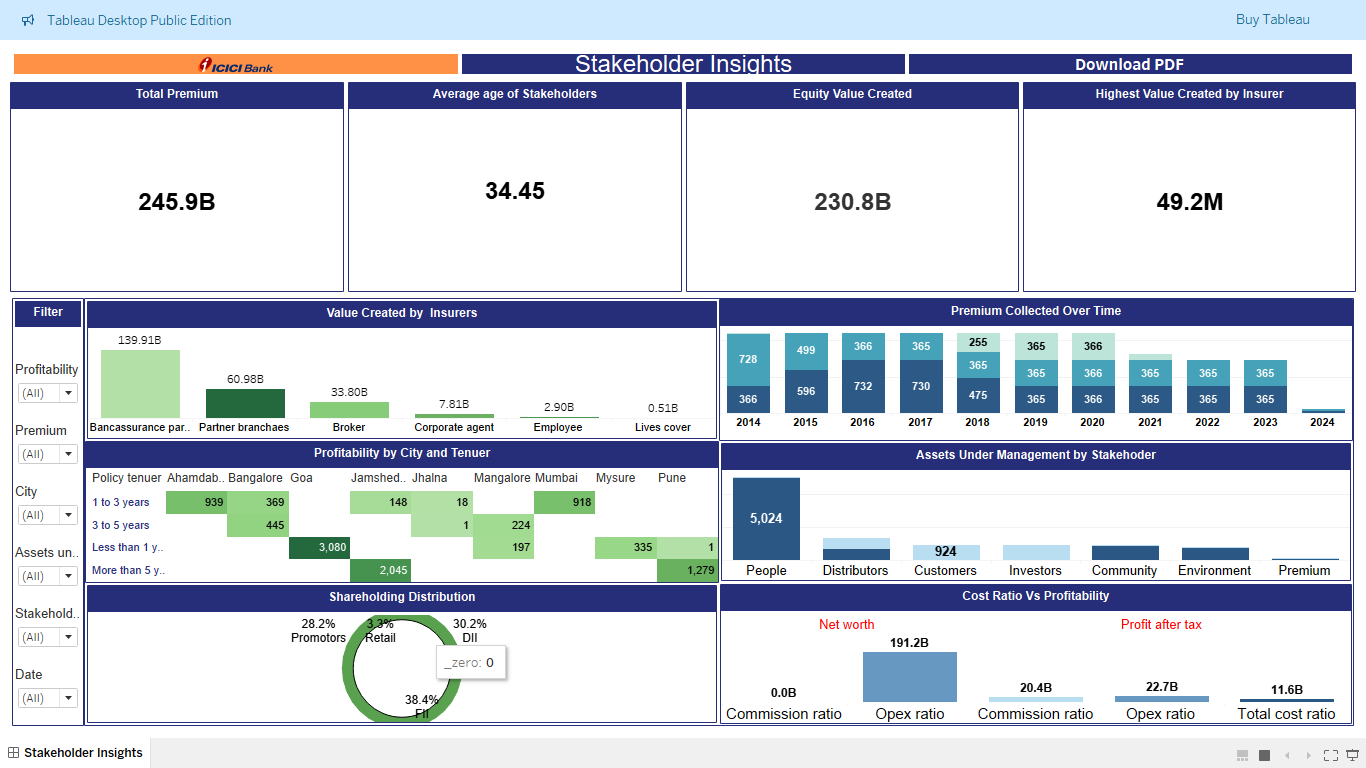

What the dashboard file says about the page in this screenshot:
{"tool":"tableau","page":{"name":"Stakeholder Insights","canvas":[1000,1000],"units":"permille","ordinal":0},"visuals":[{"type":"image","param":"C:/Users/vaibh/Downloads/ICICI-BANK-LOGO.png","box":[10.4,21.7,326.4,43.5]},{"type":"text","box":[336.8,21.7,326.4,43.5]},{"type":"dashboard-object","box":[663.2,21.7,326.4,43.5]},{"type":"worksheet","title":"Total Premium","mark":"Automatic","box":[6.9,72.5,246.8,123.2]},{"type":"worksheet","title":"Average age of Stakeholders","mark":"Automatic","box":[253.7,72.5,246.8,123.2]},{"type":"worksheet","title":"Equity Value Created","mark":"Automatic","box":[500.4,72.5,246.8,123.2]},{"type":"worksheet","title":"Highest Value Created by Insurer","mark":"Automatic","box":[747.2,72.5,245.9,123.2]},{"type":"worksheet","title":"Filter","mark":"Automatic","box":[11.3,204.7,60.6,110.5]},{"type":"worksheet","title":"Value Created by  Insurers","mark":"Automatic","rows":["Value Created"],"cols":["Insurer"],"box":[73.6,204.7,458,257.2]},{"type":"worksheet","title":"Premium Collected Over Time","mark":"Bar","rows":["Premium 1"],"cols":["Date"],"box":[531.6,204.7,457.1,257.2]},{"type":"filter","title":"Filter","param":"[federated.1yegzj21b61yib12xflw71g7y870].[none:Profitability:nk]","box":[11.3,315.2,60.6,110.5]},{"type":"filter","title":"Filter","param":"[federated.1yegzj21b61yib12xflw71g7y870].[none:Premium:nk]","box":[11.3,425.7,60.6,110.5]},{"type":"worksheet","title":"Profitability by City and Tenuer","mark":"Square","rows":["Policy tenuer"],"cols":["City"],"box":[73.6,462,458,257.2]},{"type":"worksheet","title":"Assets Under Management by Stakehoder","mark":"Automatic","rows":["Assets under management"],"cols":["Stakeholder"],"box":[531.6,462,457.1,257.2]},{"type":"filter","title":"Filter","param":"[federated.1yegzj21b61yib12xflw71g7y870].[none:City:nk]","box":[11.3,536.2,60.6,110.5]},{"type":"filter","title":"Filter","param":"[federated.1yegzj21b61yib12xflw71g7y870].[none:Assets under management:nk]","box":[11.3,646.7,60.6,110.5]},{"type":"worksheet","title":"Shareholding Distribution","mark":"Pie","rows":["Calculation_821343983090888704","Calculation_821343983090888704"],"box":[73.6,719.2,458,257.2]},{"type":"worksheet","title":"Cost Ratio Vs Profitability","mark":"Automatic","rows":["Value Created"],"cols":["Profitability","Cost ratio"],"box":[531.6,719.2,457.1,257.2]},{"type":"filter","title":"Filter","param":"[federated.1yegzj21b61yib12xflw71g7y870].[none:Stakeholder:nk]","box":[11.3,757.2,60.6,110.5]},{"type":"filter","title":"Filter","param":"[federated.1yegzj21b61yib12xflw71g7y870].[my:Date:ok]","box":[11.3,867.8,60.6,108.7]}]}

Visuals, with their boxes on the dashboard's canvas, which has no fixed pixel size, in thousandths of its width and height (x1, y1, x2, y2). These are canvas units, not pixel positions in the 1366x768 screenshot, which may show the page scaled, cropped or inside an application window:
image: bbox=[10, 22, 337, 65]
text: bbox=[337, 22, 663, 65]
dashboard-object: bbox=[663, 22, 990, 65]
"Total Premium" worksheet: bbox=[7, 72, 254, 196]
"Average age of Stakeholders" worksheet: bbox=[254, 72, 500, 196]
"Equity Value Created" worksheet: bbox=[500, 72, 747, 196]
"Highest Value Created by Insurer" worksheet: bbox=[747, 72, 993, 196]
"Filter" worksheet: bbox=[11, 205, 72, 315]
"Value Created by  Insurers" worksheet: bbox=[74, 205, 532, 462]
"Premium Collected Over Time" worksheet (Bar marks): bbox=[532, 205, 989, 462]
"Filter" filter: bbox=[11, 315, 72, 426]
"Filter" filter: bbox=[11, 426, 72, 536]
"Profitability by City and Tenuer" worksheet (Square marks): bbox=[74, 462, 532, 719]
"Assets Under Management by Stakehoder" worksheet: bbox=[532, 462, 989, 719]
"Filter" filter: bbox=[11, 536, 72, 647]
"Filter" filter: bbox=[11, 647, 72, 757]
"Shareholding Distribution" worksheet (Pie marks): bbox=[74, 719, 532, 976]
"Cost Ratio Vs Profitability" worksheet: bbox=[532, 719, 989, 976]
"Filter" filter: bbox=[11, 757, 72, 868]
"Filter" filter: bbox=[11, 868, 72, 976]
